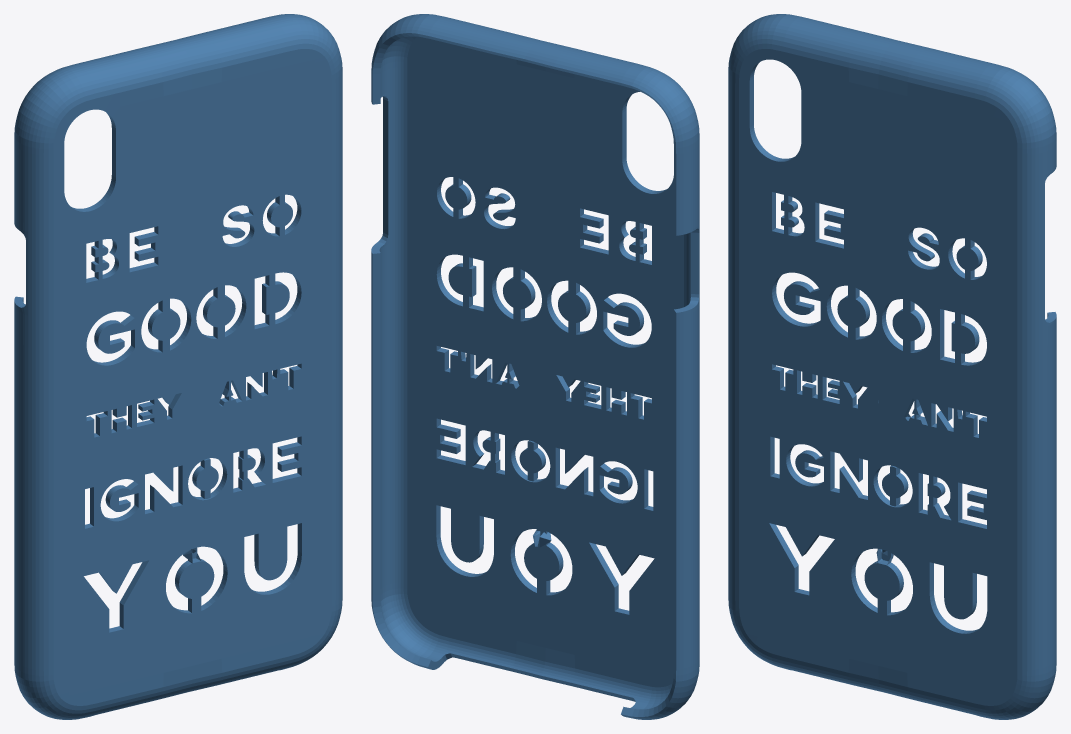
The model's file is XR-BeGood.fbx.
3 views of the same model, side by side, from view 1: azimuth 30°, elevation 25°; view 2: azimuth 150°, elevation 25°; view 3: azimuth 330°, elevation 25° (orthographic).
Visible parts, largest first — view 1: Good; view 2: Good; view 3: Good.
Part boxes in pixels (x1,y1,x2,y2): Good: (14, 14, 342, 719); Good: (371, 14, 699, 719); Good: (728, 14, 1056, 719).
Size of the model in its own units: 7.97 by 15.45 by 1.1.
